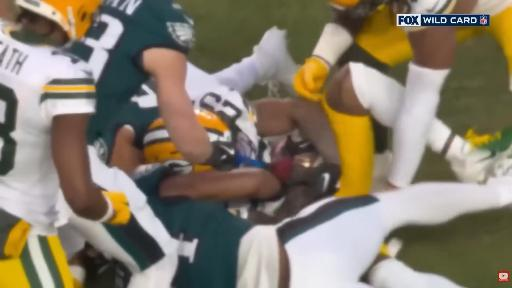Helmet: (143, 118, 212, 172), (16, 0, 101, 39)
Jersey: (0, 25, 95, 225), (70, 0, 193, 143), (135, 167, 253, 287), (186, 64, 261, 159), (408, 0, 457, 14), (410, 0, 457, 13)
Player: (137, 168, 511, 287), (0, 10, 129, 287), (69, 0, 229, 165), (296, 0, 510, 98), (58, 146, 177, 287), (186, 28, 295, 159), (427, 118, 510, 182)
